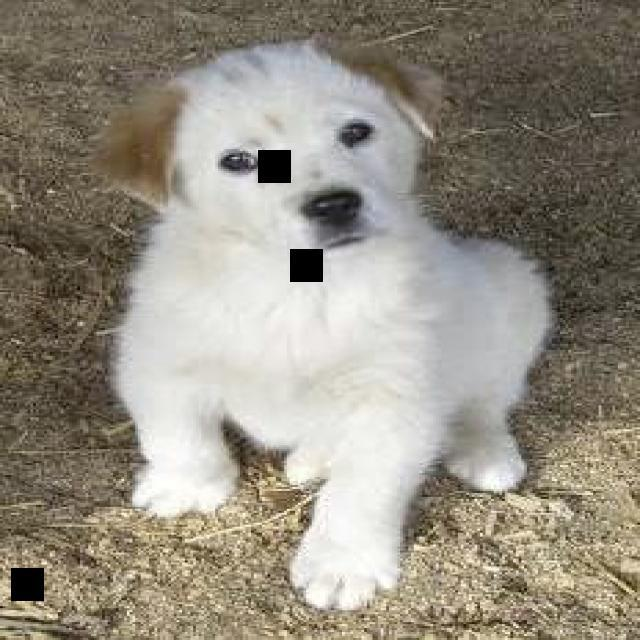puppy-dog: (90, 33, 557, 618)
